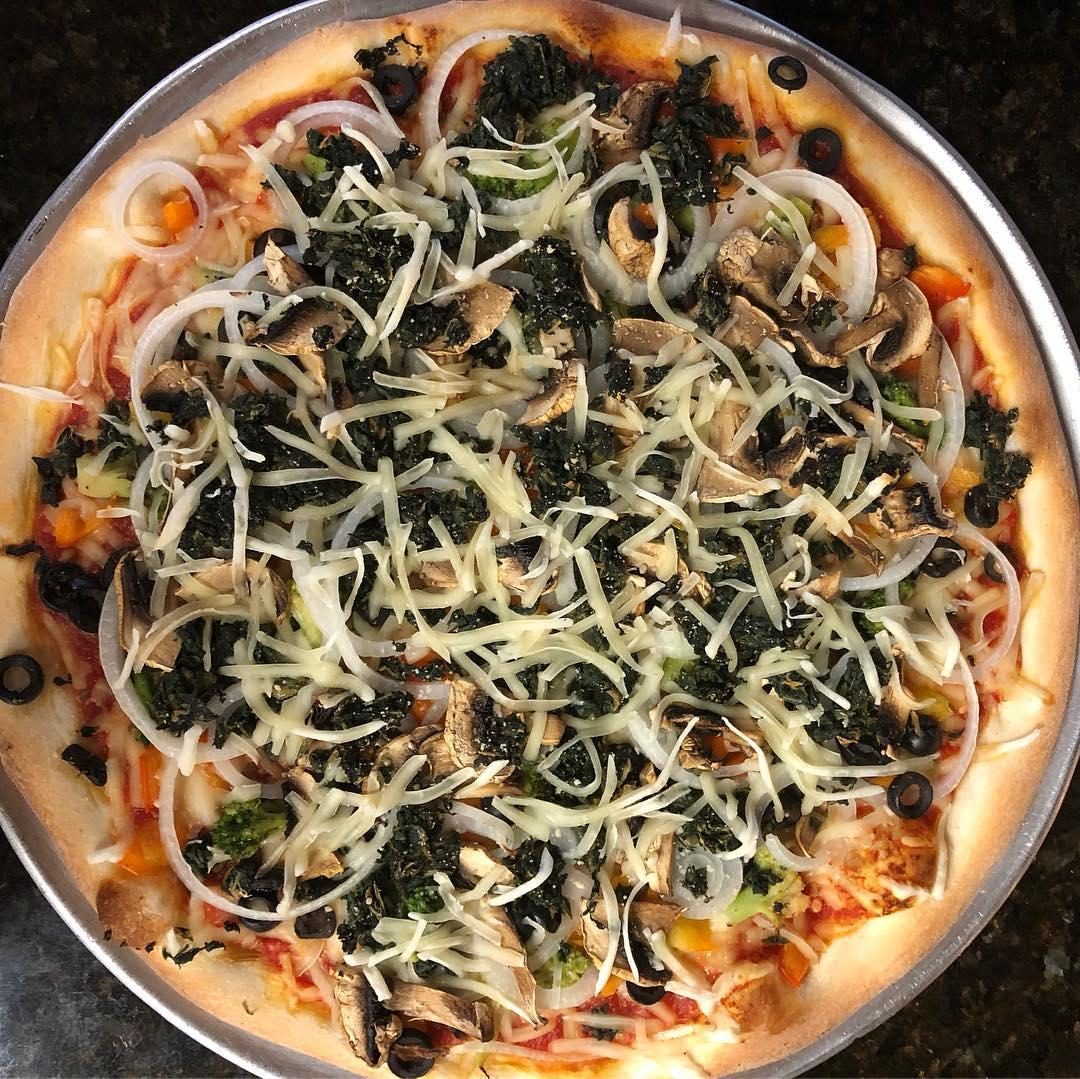Mushroom: (331, 969, 488, 1055), (833, 265, 938, 374), (261, 257, 356, 370), (591, 189, 682, 289), (721, 221, 812, 314), (609, 537, 706, 620), (477, 913, 545, 1031), (853, 487, 953, 564), (177, 553, 278, 618), (105, 569, 173, 662), (427, 677, 490, 777), (511, 363, 602, 429), (561, 893, 628, 975), (599, 309, 700, 360), (457, 281, 529, 345), (135, 361, 230, 408), (635, 829, 685, 893)
Olives: (0, 640, 56, 713), (378, 1033, 455, 1076), (977, 541, 1030, 596), (885, 774, 943, 823), (893, 710, 951, 756), (563, 666, 609, 710), (619, 964, 668, 1000), (766, 58, 811, 93), (965, 483, 1003, 518)
Onion: (625, 420, 719, 660), (569, 153, 720, 302), (410, 533, 557, 676), (751, 158, 877, 317), (116, 268, 259, 399), (269, 765, 417, 889), (741, 661, 853, 824), (93, 553, 184, 746), (246, 553, 355, 702), (129, 441, 269, 554), (368, 913, 517, 1018), (266, 86, 391, 205), (338, 355, 525, 433), (373, 183, 470, 313), (299, 449, 425, 549), (463, 786, 661, 848), (917, 319, 982, 506), (607, 666, 706, 781), (108, 151, 213, 257), (440, 423, 539, 529), (416, 23, 487, 159), (455, 163, 575, 243), (145, 748, 201, 894), (645, 353, 807, 403), (566, 520, 609, 658)
Pizza: (0, 8, 1080, 1079)
